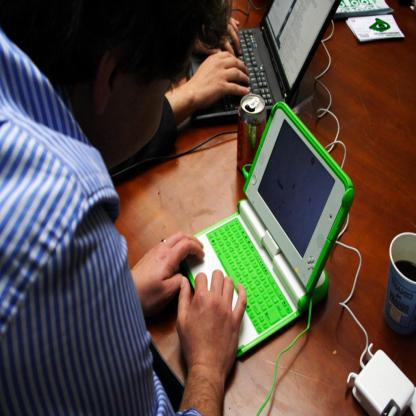board: (173, 101, 353, 361), (186, 0, 342, 123), (238, 95, 268, 174)
